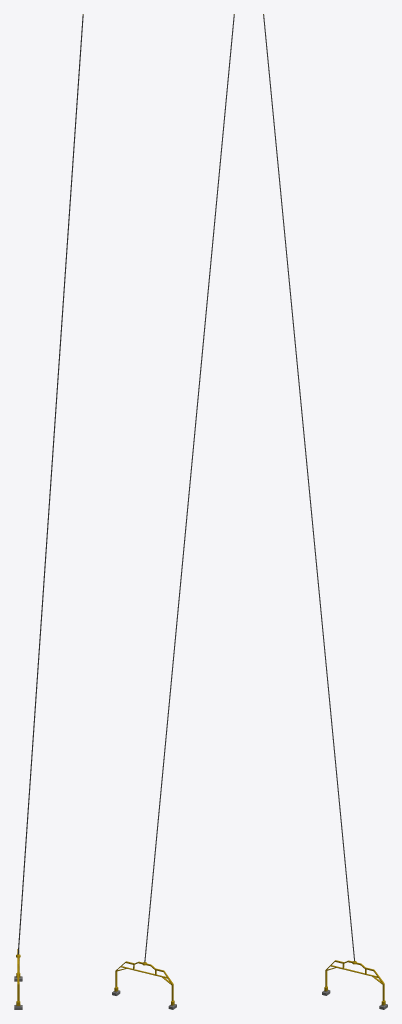
Rendered from Halterung3.fbx.
The picture shows the model from 3 angles, left to right: view 1: azimuth 90°, elevation 25°; view 2: azimuth 150°, elevation 25°; view 3: azimuth 330°, elevation 25°; orthographic projection. The views are drawn at different scales.
Parts seen in each view (by area): view 1: StartHalterung3; view 2: StartHalterung3; view 3: StartHalterung3.
Boxes of the visible parts, <box> form: StartHalterung3: <box>14,14,83,1009</box>; StartHalterung3: <box>112,14,234,1009</box>; StartHalterung3: <box>263,14,387,1009</box>.
Size of the model in its own units: 7174 by 74961 by 4676.
